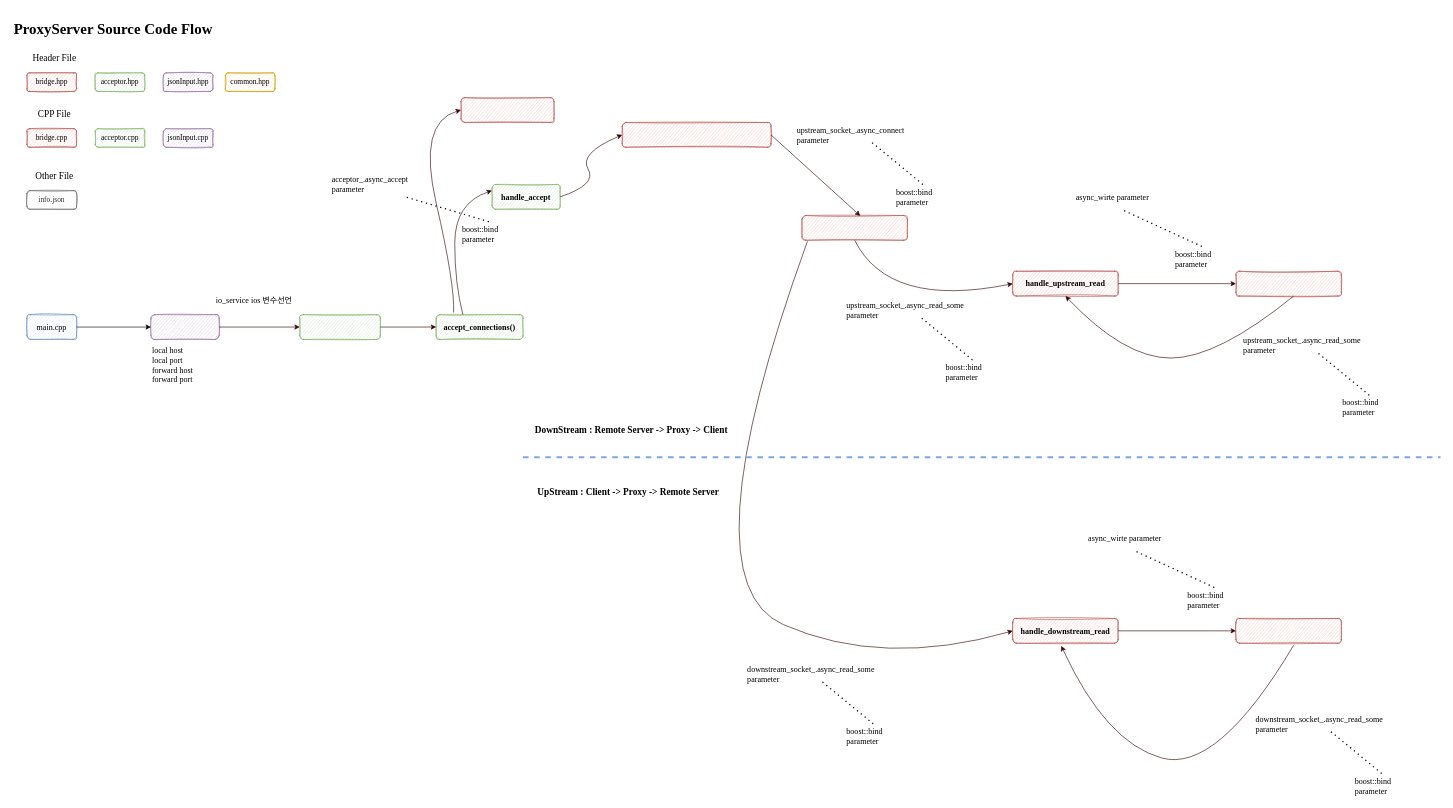
The diagram is 1453 pixels wide and 808 high, and some of its shapes have lost their labels. The centre of each missing label's shape, as x and y in pixels:
"acceptor 생성자 이용하여 객체생성" goes at (339,326).
"handle_downstream_write" goes at (1288,283).
"handle_upstream_connect" goes at (854,227).
"handle_upstream_write" goes at (1288,630).
"jsonInput:: start()" goes at (184,326).
"session_ -> downstream_socket()" goes at (507,109).
"session_ -> start (upstream_host_, upstream_port_);" goes at (696,134).
